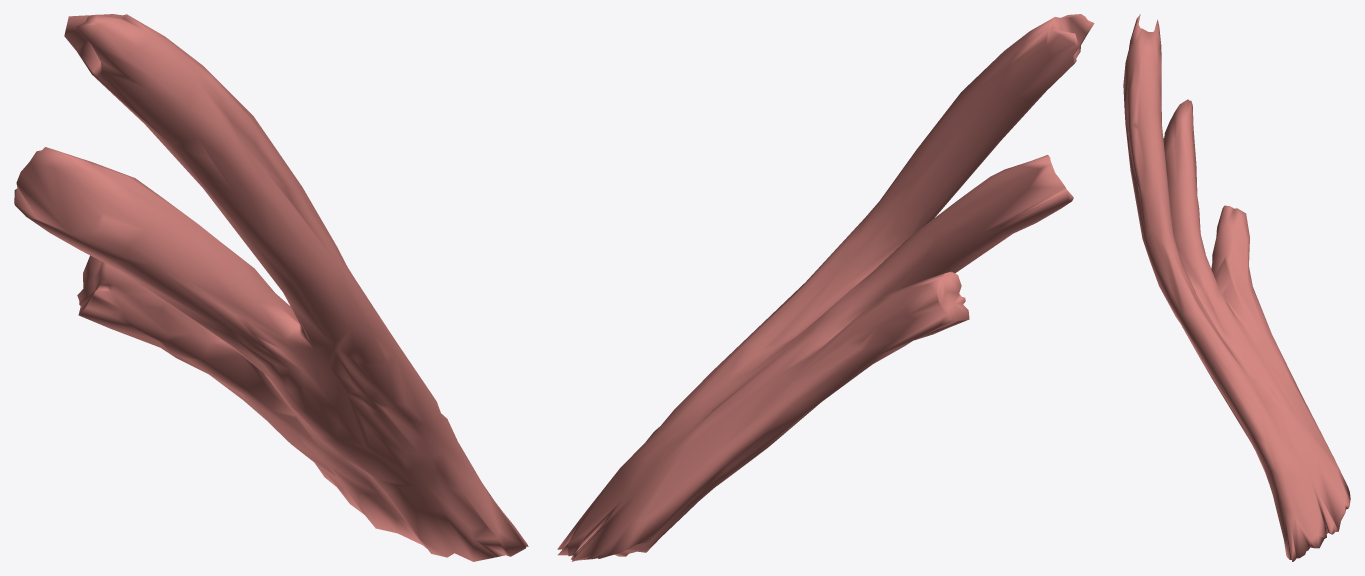
The picture shows the model from 3 angles, left to right: view 1: azimuth 30°, elevation 25°; view 2: azimuth 150°, elevation 25°; view 3: azimuth 270°, elevation 25°; orthographic projection. The views are drawn at different scales.
Visible parts, largest first — view 1: ZA_7d9ad47730eeb66c; view 2: ZA_7d9ad47730eeb66c; view 3: ZA_7d9ad47730eeb66c.
Part boxes in pixels (bbox=[...]): ZA_7d9ad47730eeb66c: bbox=[14, 14, 528, 561]; ZA_7d9ad47730eeb66c: bbox=[557, 14, 1094, 561]; ZA_7d9ad47730eeb66c: bbox=[1123, 14, 1350, 561].
Size of the model in its own units: 0.0442 by 0.0536 by 0.0275.
